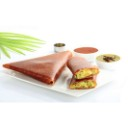dosa: (2, 51, 102, 86)
